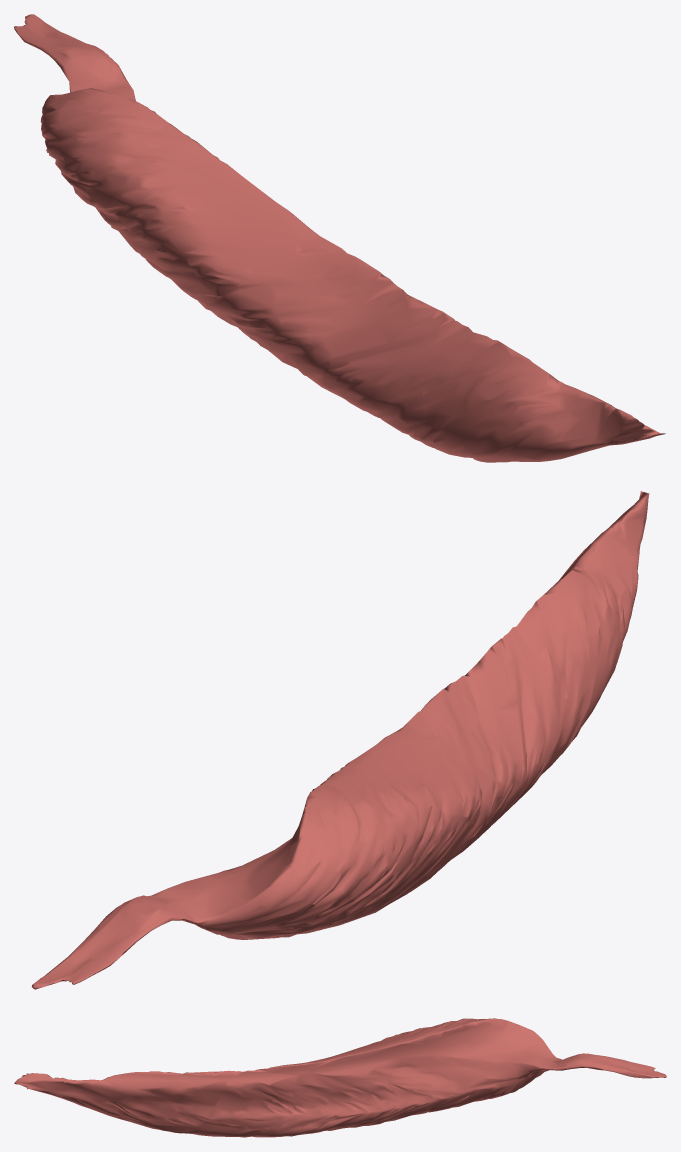
The picture shows the model from 3 angles, top to bottom: view 1: azimuth 30°, elevation 25°; view 2: azimuth 150°, elevation 25°; view 3: azimuth 270°, elevation 25°; orthographic projection. The views are drawn at different scales.
Visible parts, largest first — view 1: 左侧股内侧肌; view 2: 左侧股内侧肌; view 3: 左侧股内侧肌.
Boxes of the visible parts, <box> form: 左侧股内侧肌: <box>14,14,665,462</box>; 左侧股内侧肌: <box>31,491,649,989</box>; 左侧股内侧肌: <box>14,1018,666,1137</box>.
Bounding box in the file's own units: 0.1055 × 0.1009 × 0.601.
